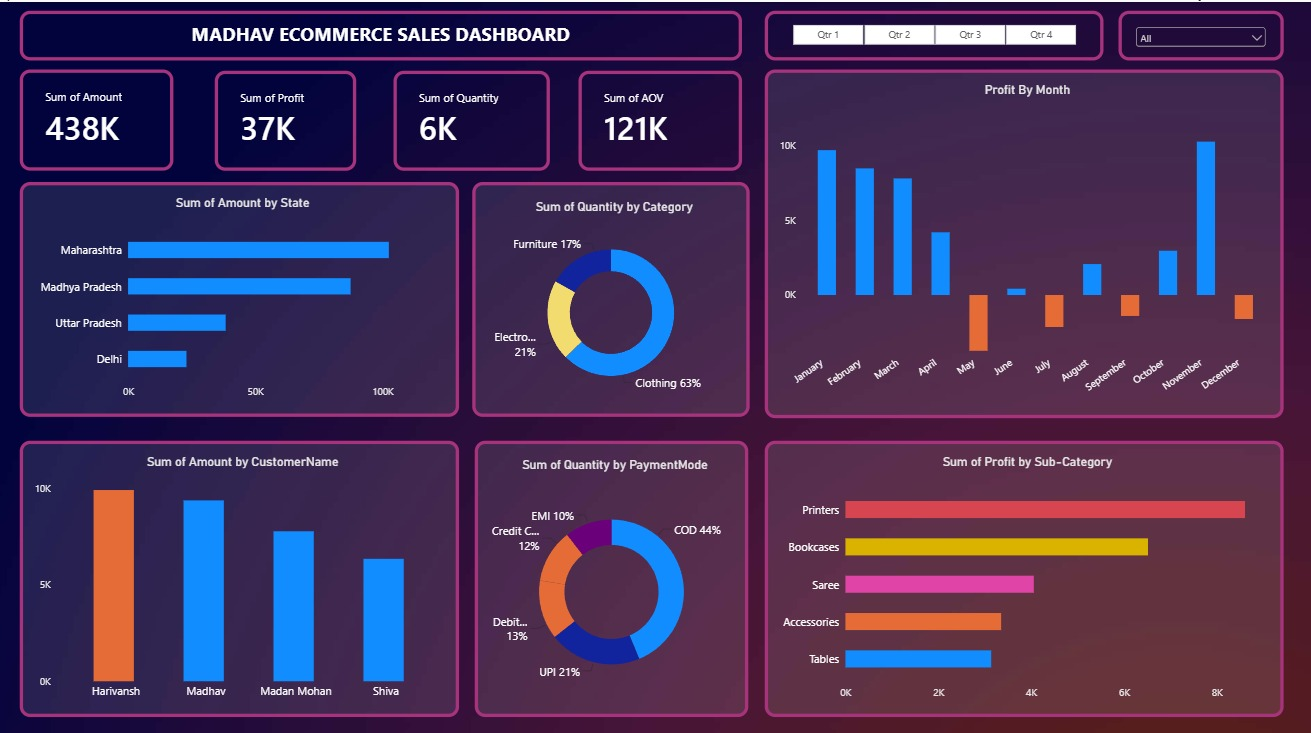

What the dashboard file says about the page in this screenshot:
{"tool":"powerbi","page":{"name":"Page 1","canvas":[1920,1080],"ordinal":0},"visuals":[{"type":"textbox","box":[34.4,12.7,1046,72.4],"z":0},{"type":"columnChart","title":"Profit By Month","fields":{"Category":["Orders.Order Date.Variation.Date Hierarchy.Month"],"Y":["Sum(Details.Profit)"]},"box":[1112.9,97.7,751,504.9],"z":1000},{"type":"barChart","fields":{"Category":["Details.Sub-Category"],"Y":["Sum(Details.Profit)"]},"box":[1112.9,635.2,751,399.9],"z":2000},{"type":"donutChart","fields":{"Category":["Details.Category"],"Y":["Sum(Details.Quantity)"]},"box":[689.5,261.4,401.7,340.2],"z":3000},{"type":"donutChart","fields":{"Category":["Details.PaymentMode"],"Y":["Sum(Details.Quantity)"]},"box":[693.7,636,396.3,399.9],"z":4000},{"type":"cardVisual","fields":{"Data":["Sum(Details.Amount)"]},"box":[34.4,97.7,222.6,146.6],"z":5000},{"type":"cardVisual","fields":{"Data":["Sum(Details.Profit)"]},"box":[316.7,99.5,204.5,144.8],"z":6000},{"type":"cardVisual","fields":{"Data":["Sum(Details.Quantity)"]},"box":[575.5,99.5,226.2,144.8],"z":7000},{"type":"cardVisual","fields":{"Data":["Sum(Details.AOV)"]},"box":[843.3,99.5,237.1,144.8],"z":8000},{"type":"barChart","fields":{"Category":["Orders.State"],"Y":["Sum(Details.Amount)"]},"box":[35,261.4,636,339.6],"z":8001},{"type":"columnChart","fields":{"Category":["Orders.CustomerName"],"Y":["Sum(Details.Amount)"]},"box":[35,635,636,400],"z":8002},{"type":"slicer","fields":{"Values":["Orders.Order Date.Variation.Date Hierarchy.Quarter"]},"box":[1112.9,12.7,490.4,72.4],"z":8003},{"type":"slicer","fields":{"Values":["Orders.State"]},"box":[1625.1,12.7,238.9,72.4],"z":8004}]}

Visuals, with their boxes in screenshot pixels (x1, y1, x2, y2), scaled from the page's 1920x1080 canvas onto the 1311x733 screenshot:
textbox: 23 9 738 58
"Profit By Month" columnChart: 760 66 1273 409
barChart - Details.Sub-Category x Sum(Details.Profit): 760 431 1273 703
donutChart - Details.Category x Sum(Details.Quantity): 471 177 745 408
donutChart - Details.PaymentMode x Sum(Details.Quantity): 474 432 744 703
cardVisual - Sum(Details.Amount): 23 66 175 166
cardVisual - Sum(Details.Profit): 216 68 356 166
cardVisual - Sum(Details.Quantity): 393 68 547 166
cardVisual - Sum(Details.AOV): 576 68 738 166
barChart - Orders.State x Sum(Details.Amount): 24 177 458 408
columnChart - Orders.CustomerName x Sum(Details.Amount): 24 431 458 702
slicer - Orders.Order Date.Variation.Date Hierarchy.Quarter: 760 9 1095 58
slicer - Orders.State: 1110 9 1273 58
